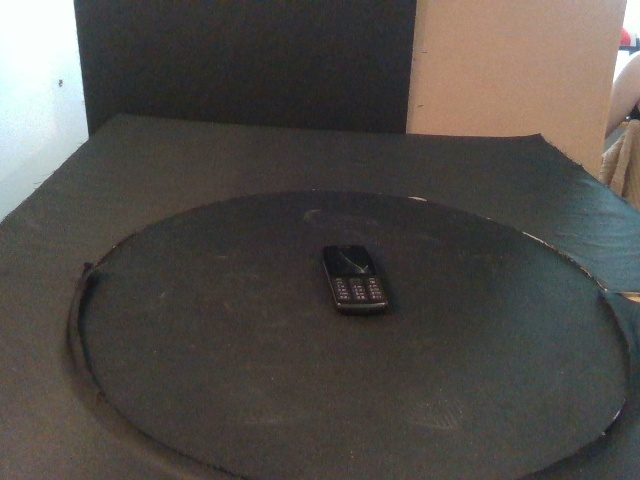phone: (320, 244, 391, 314)
